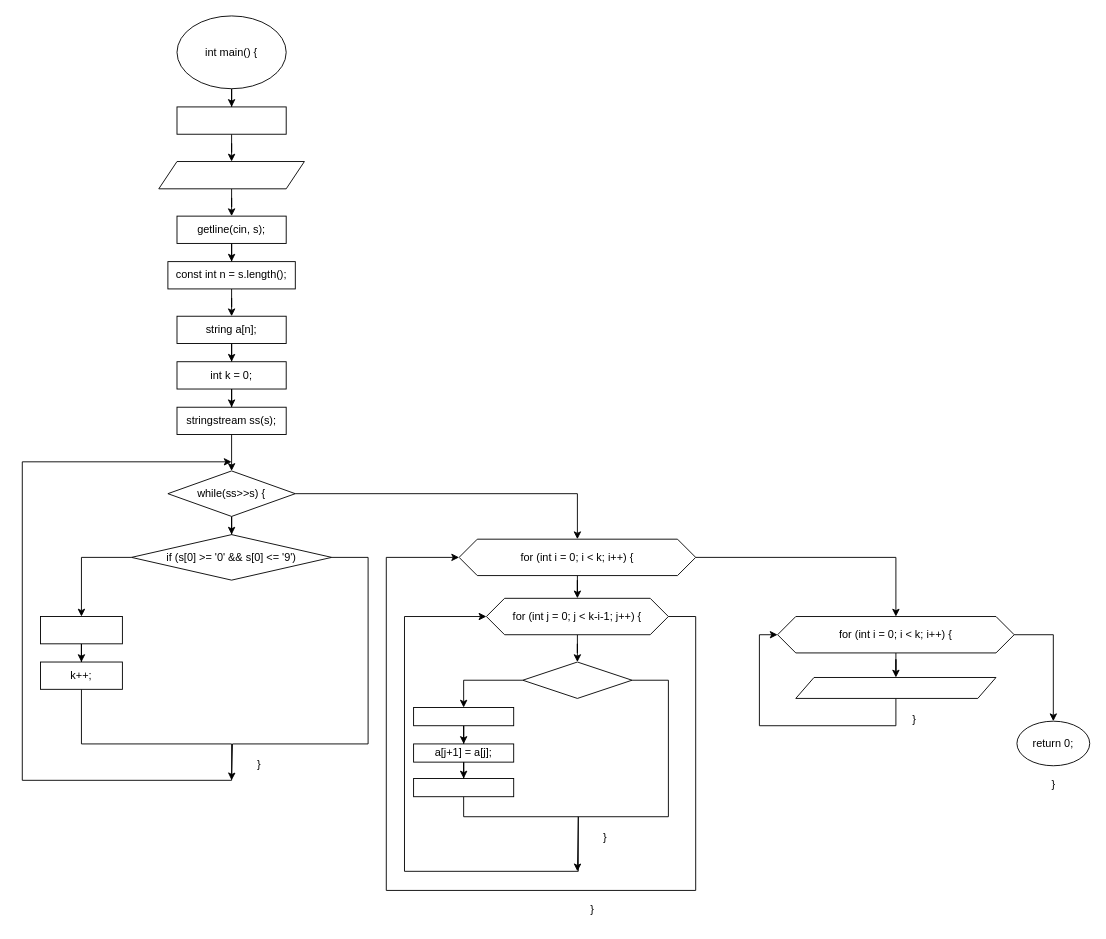
Image size: 1106x939. Some labels were removed from this diagram. The shapes that lost their labels are listed below. From the top down, each one's centre as x and y in pixels, then its label:
pixel 231 120: string s;
pixel 231 175: cout<<"Введите строку: ";
pixel 81 630: a[k] = s;
pixel 577 679: if(a[j] < a[j+1]) {
pixel 895 687: cout<<a[i]<<" ";
pixel 463 716: string temp = a[j+1];
pixel 463 787: a[j] = temp;
